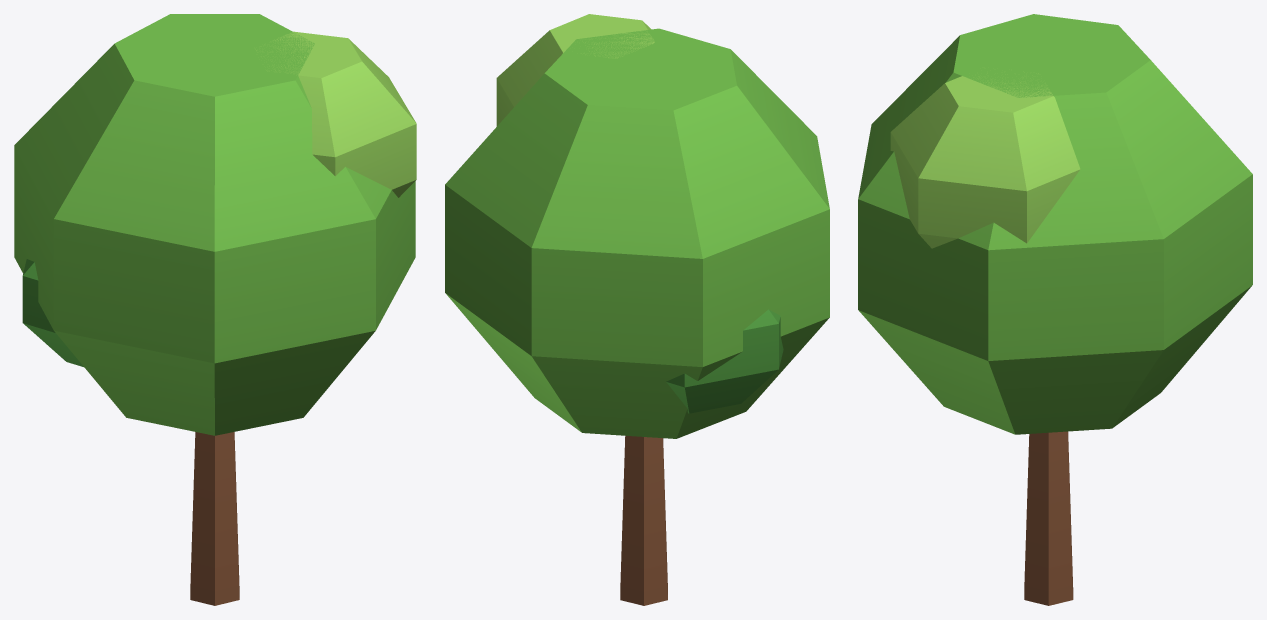
Rendered from tree_round.glb.
The picture shows the model from 3 angles, left to right: view 1: azimuth 30°, elevation 25°; view 2: azimuth 150°, elevation 25°; view 3: azimuth 270°, elevation 25°; orthographic projection. The views are drawn at different scales.
Visible parts, largest first — view 1: tree_round; view 2: tree_round; view 3: tree_round.
Boxes of the visible parts, box(x1,y1,x2,y2) form: tree_round: box(14, 14, 416, 605); tree_round: box(445, 14, 829, 605); tree_round: box(858, 14, 1252, 605).
Bounding box in the file's own units: 2.82 × 4.2 × 2.8.
1 material, 1 textured.
